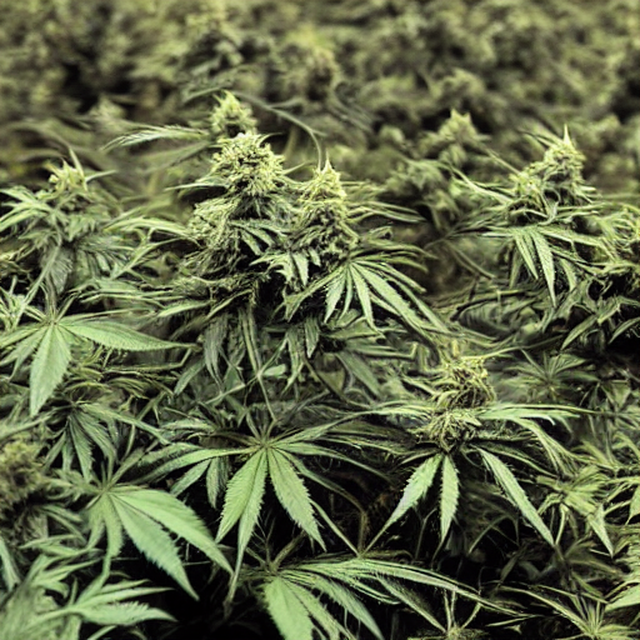Marijuana Joint: (146, 177, 606, 544)
